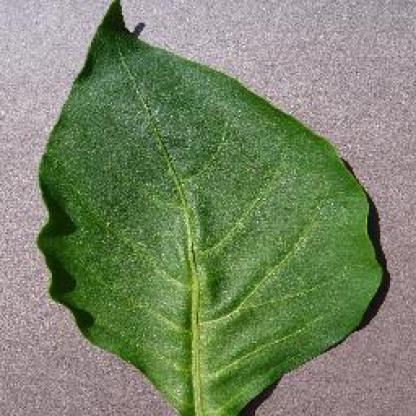good leaf: (90, 41, 352, 377)
